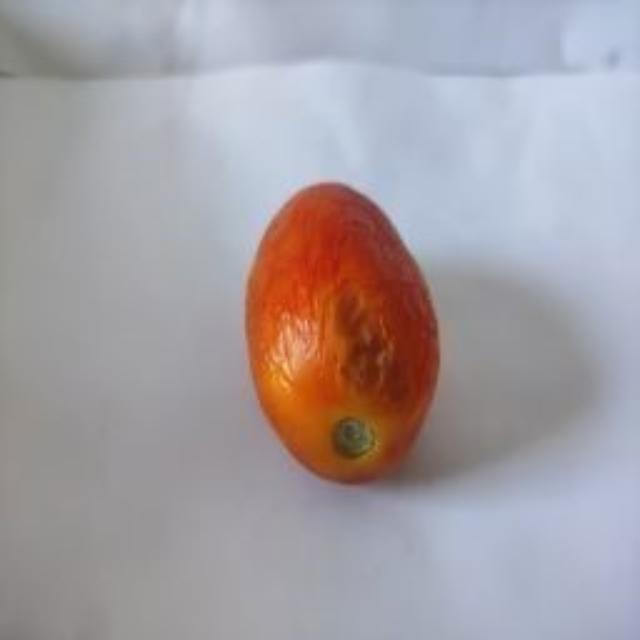defect: (238, 176, 447, 493)
